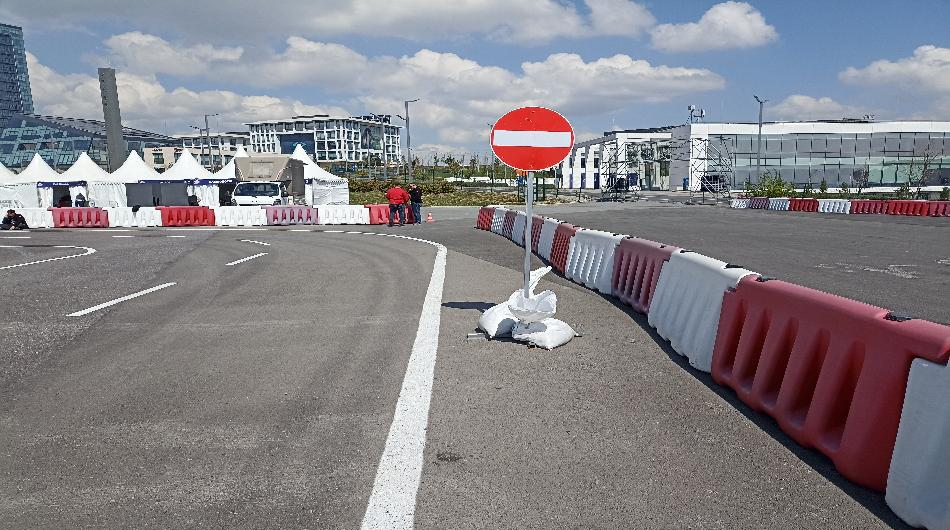girilmez: (490, 102, 575, 173)
